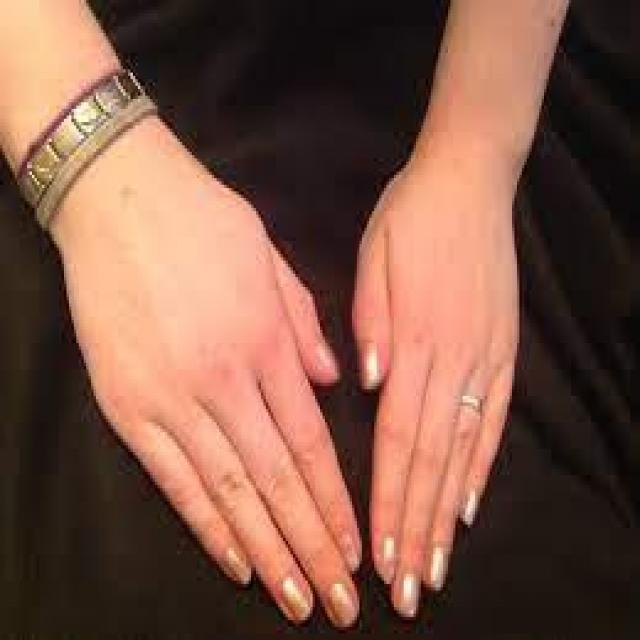hand: (52, 114, 362, 632), (356, 150, 524, 619)
